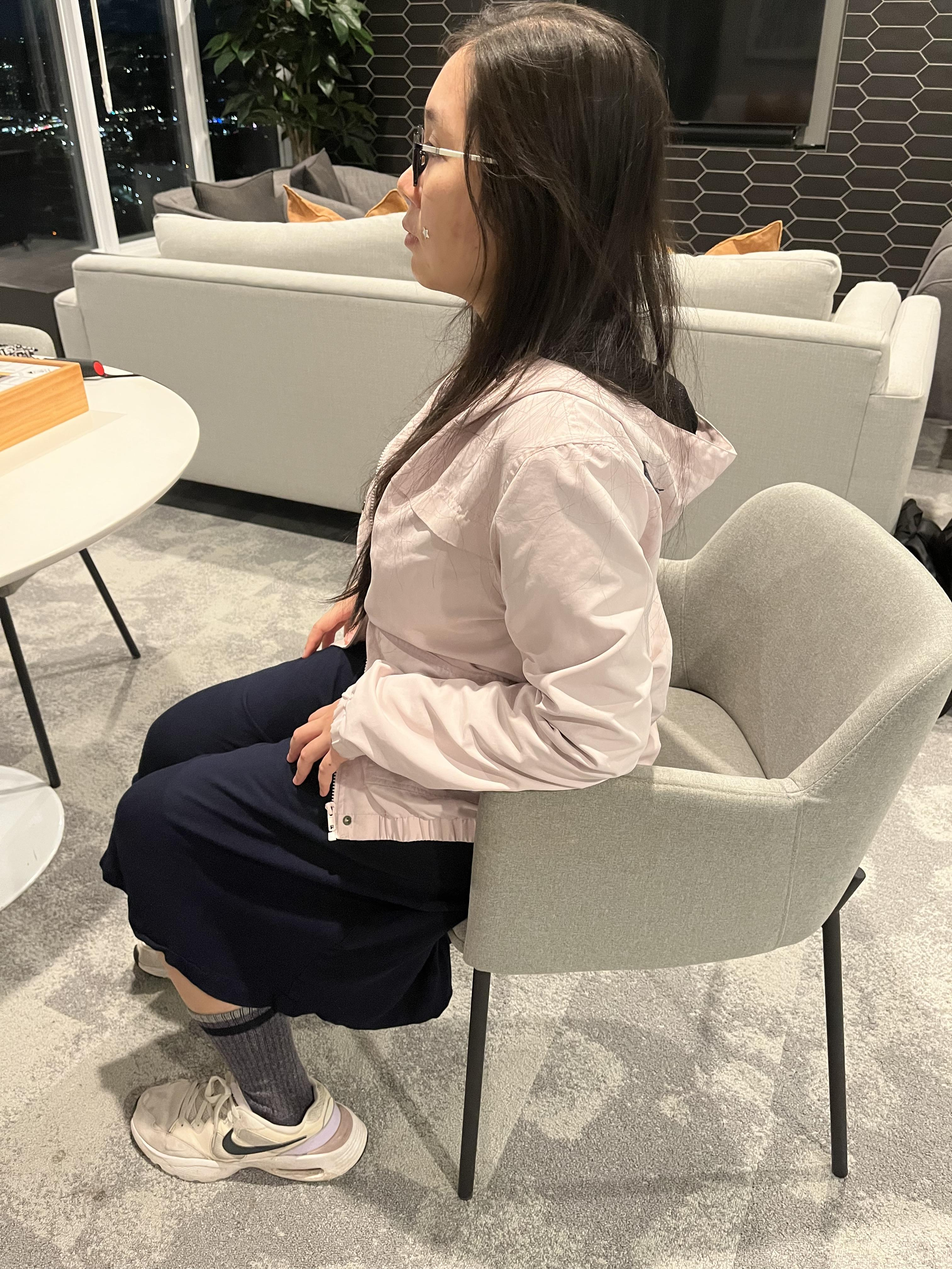GoodPosture: (98, 2, 735, 1187)
